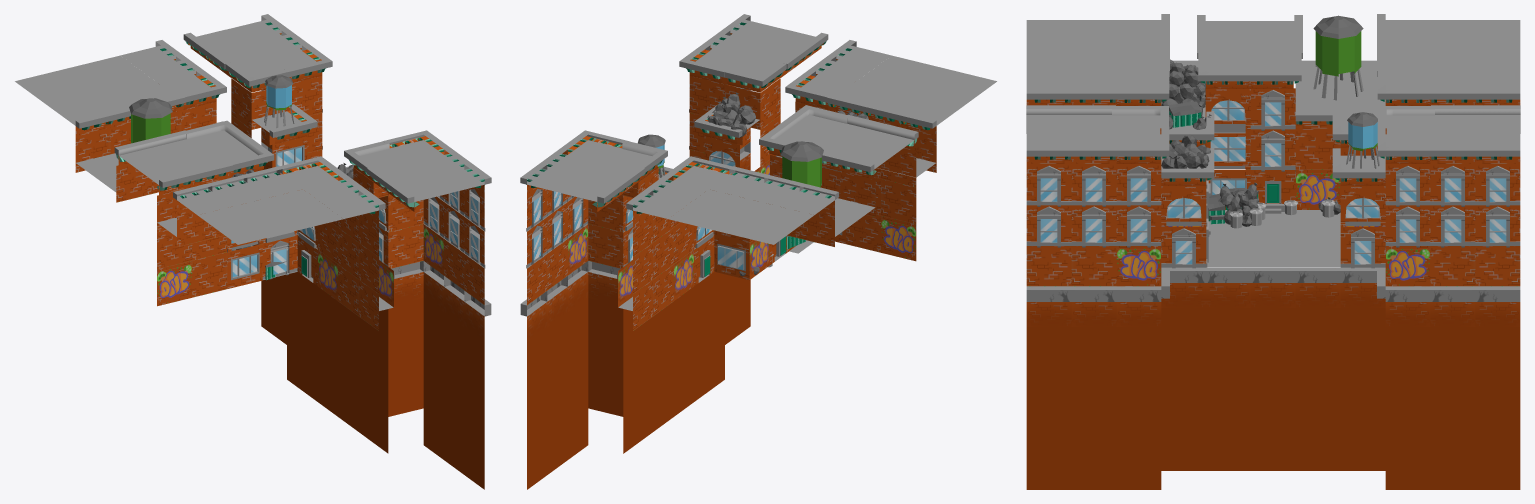
File: kamer_004_ randomized.fbx
The picture shows the model from 3 angles, left to right: view 1: azimuth 30°, elevation 25°; view 2: azimuth 150°, elevation 25°; view 3: azimuth 270°, elevation 25°; orthographic projection. The views are drawn at different scales.
Parts seen in each view (by area): view 1: Cylinder.009, Plane.1050, Plane.1060, Plane.1063, Plane.1175, Plane.1186, Plane.1134, Plane.1166, Plane.1239, Plane.1244, Plane.1102, Plane.1100 (+102 smaller); view 2: Cylinder.009, Plane.1186, Plane.1175, Plane.1050, Plane.1232, Plane.1063, Plane.1147, Plane.1155, Plane.1105, Plane.1102, Plane.1067, Plane.1134 (+100 smaller); view 3: Cylinder.009, Plane.1074, Plane.1111, Plane.1197, Plane.1216, Plane.1072, Plane.1195, Plane.1141, Plane.1142, Plane.1143, Plane.1144, Plane.1145 (+133 smaller).
Boxes of the visible parts, left/top/right/bottom form: Cylinder.009: left=129, top=98, right=172, bottom=143; Plane.1050: left=161, top=69, right=226, bottom=109; Plane.1060: left=252, top=104, right=317, bottom=145; Plane.1063: left=267, top=44, right=332, bottom=82; Plane.1175: left=276, top=156, right=344, bottom=189; Plane.1186: left=382, top=130, right=450, bottom=163; Plane.1134: left=209, top=137, right=274, bottom=177; Plane.1166: left=192, top=252, right=227, bottom=297; Plane.1239: left=388, top=334, right=423, bottom=379; Plane.1244: left=388, top=371, right=423, bottom=416; Plane.1102: left=157, top=261, right=192, bottom=306; Plane.1100: left=227, top=244, right=262, bottom=288; Cylinder.009: left=780, top=141, right=823, bottom=187; Plane.1186: left=679, top=44, right=744, bottom=84; Plane.1175: left=785, top=69, right=850, bottom=109; Plane.1050: left=667, top=156, right=735, bottom=189; Plane.1232: left=724, top=59, right=786, bottom=92; Plane.1063: left=561, top=130, right=629, bottom=163; Plane.1147: left=588, top=334, right=623, bottom=379; Plane.1155: left=588, top=371, right=623, bottom=416; Plane.1105: left=881, top=179, right=916, bottom=224; Plane.1102: left=881, top=216, right=916, bottom=261; Plane.1067: left=588, top=224, right=623, bottom=268; Plane.1134: left=782, top=105, right=847, bottom=137; Cylinder.009: left=1313, top=15, right=1363, bottom=100; Plane.1074: left=1430, top=164, right=1475, bottom=206; Plane.1111: left=1475, top=164, right=1520, bottom=206; Plane.1197: left=1071, top=164, right=1116, bottom=206; Plane.1216: left=1026, top=164, right=1071, bottom=206; Plane.1072: left=1385, top=164, right=1430, bottom=206; Plane.1195: left=1116, top=164, right=1161, bottom=206; Plane.1141: left=1430, top=367, right=1475, bottom=408; Plane.1142: left=1475, top=367, right=1520, bottom=408; Plane.1143: left=1340, top=348, right=1385, bottom=389; Plane.1144: left=1295, top=348, right=1340, bottom=389; Plane.1145: left=1250, top=348, right=1295, bottom=389.
Bounding box in the file's own units: 719 × 904 × 1101.
